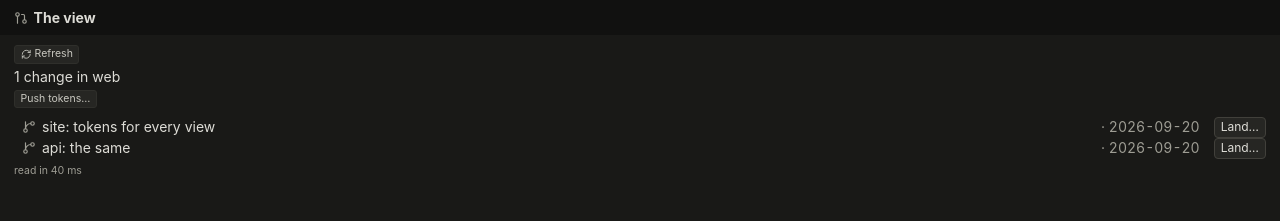
Test case: every view in purlis-dark › draws a workspace's changes, a landing refused with tokens only
Expected: the button "Push tokens…" is shown, x1=14 y1=90 x2=97 y2=108
Click the 1st button "Land…": point(1240, 127) x1=1214 y1=117 x2=1266 y2=138
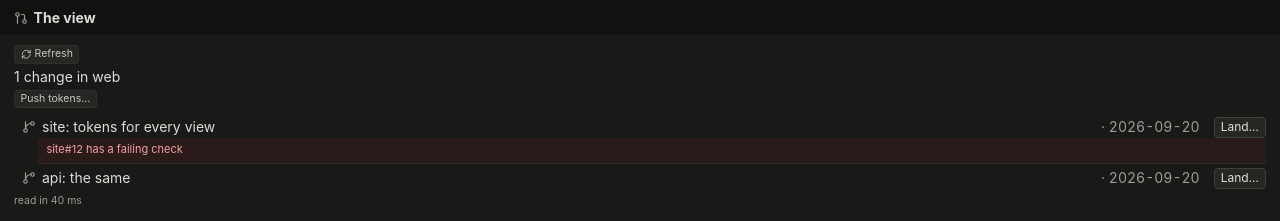
Now the text "site#12 has a failing check" is shown, box x1=38 y1=138 x2=1266 y2=164
